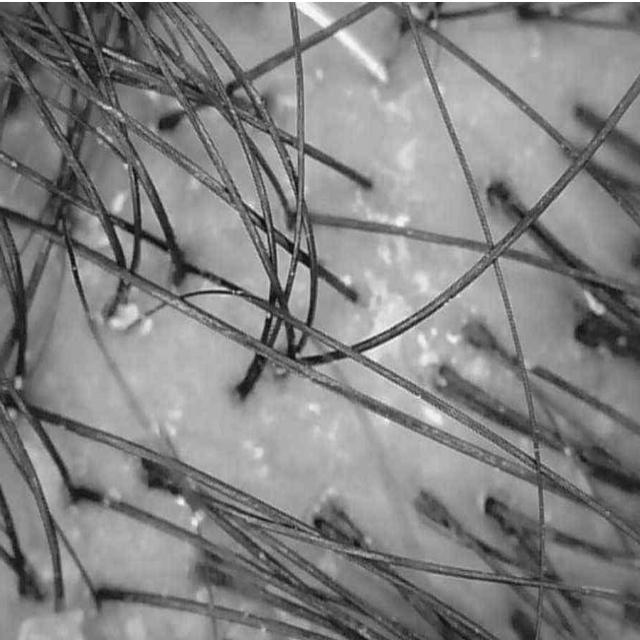d: (352, 237, 431, 332), (16, 610, 84, 640), (106, 302, 140, 330), (418, 332, 440, 367), (584, 290, 606, 316), (110, 190, 126, 212), (190, 510, 205, 528), (140, 316, 154, 335), (12, 376, 22, 391), (175, 495, 185, 507)
